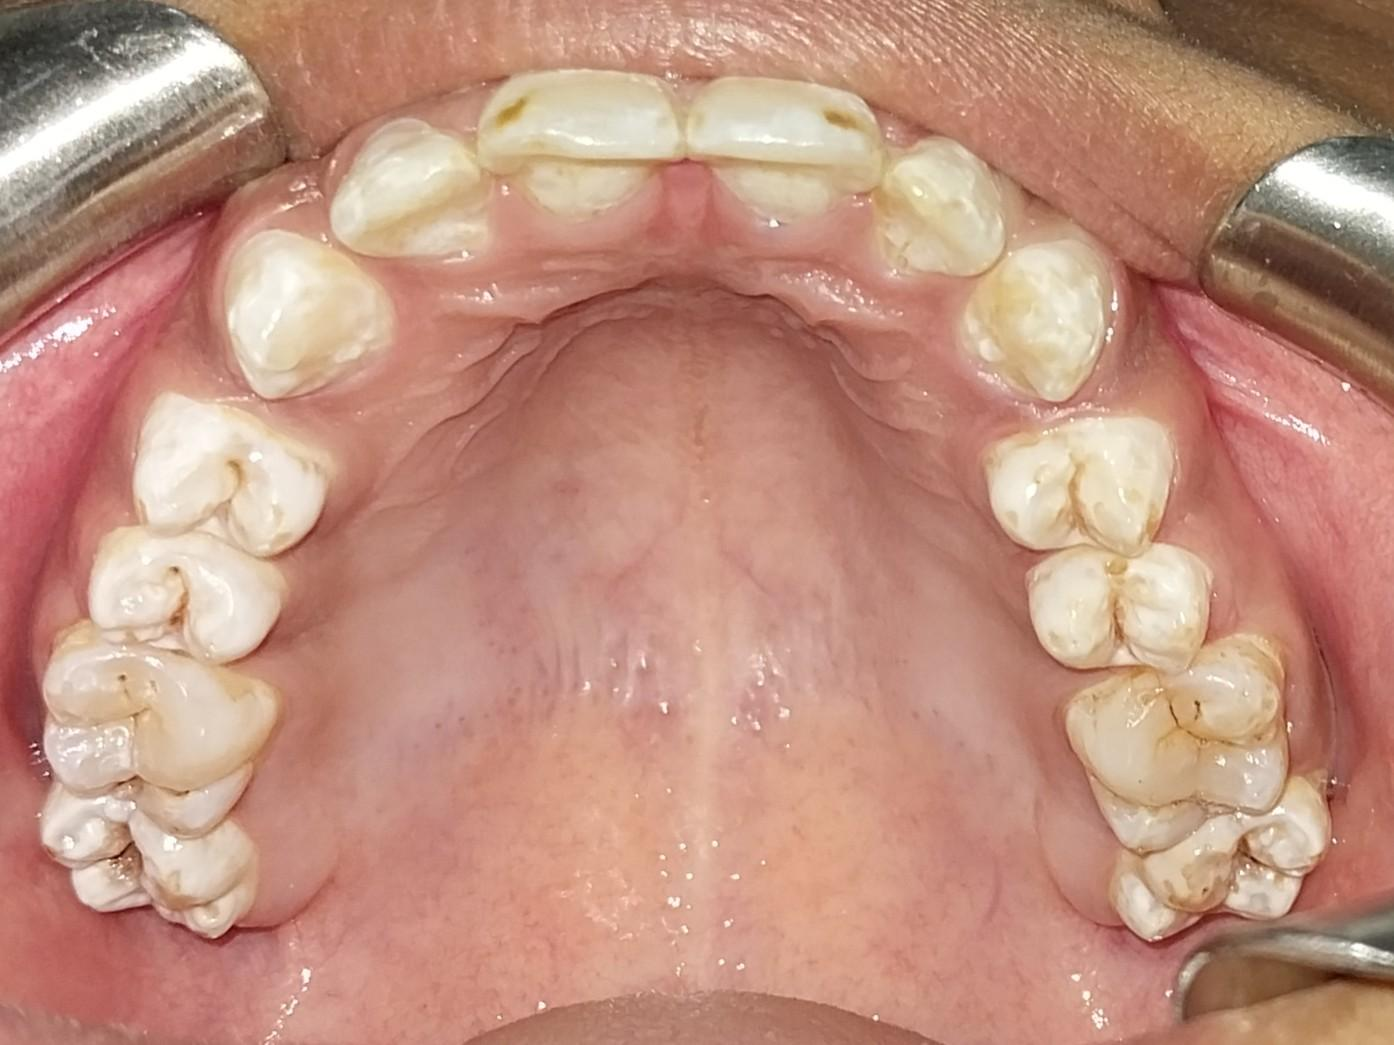D: (45, 628, 282, 843), (33, 780, 263, 935), (87, 531, 290, 668), (1024, 540, 1214, 676)
d: (1060, 635, 1295, 856)
